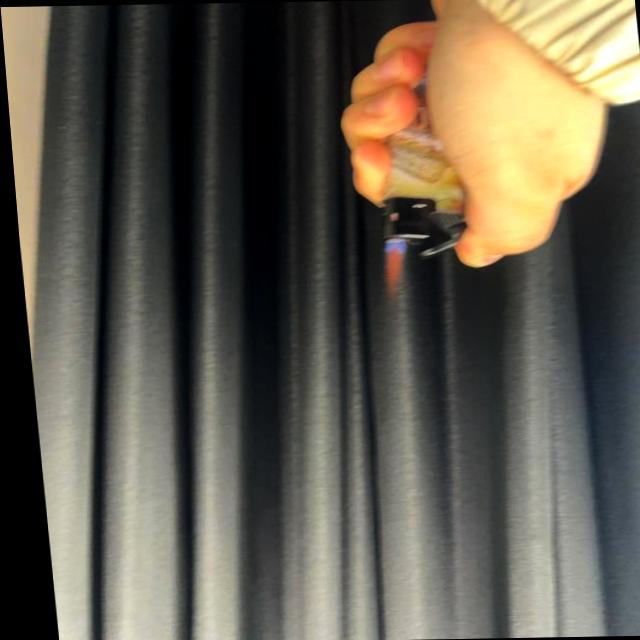helmet: (372, 238, 405, 302)
